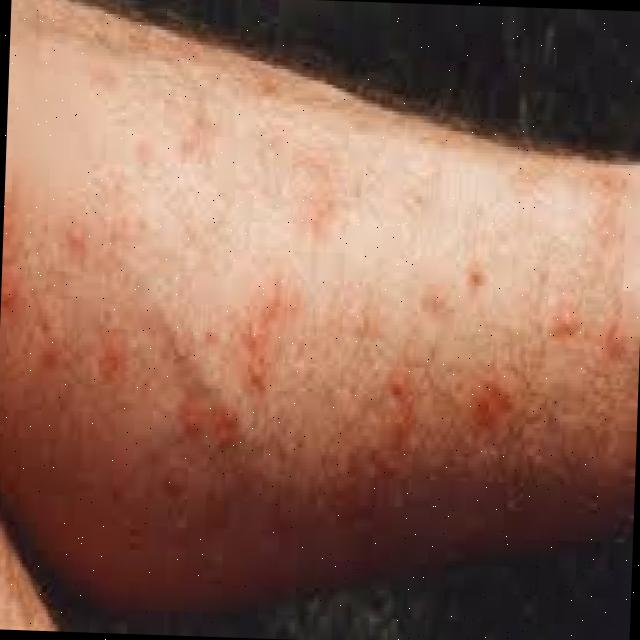kene: (238, 272, 294, 400), (469, 369, 516, 443), (548, 294, 585, 351)
